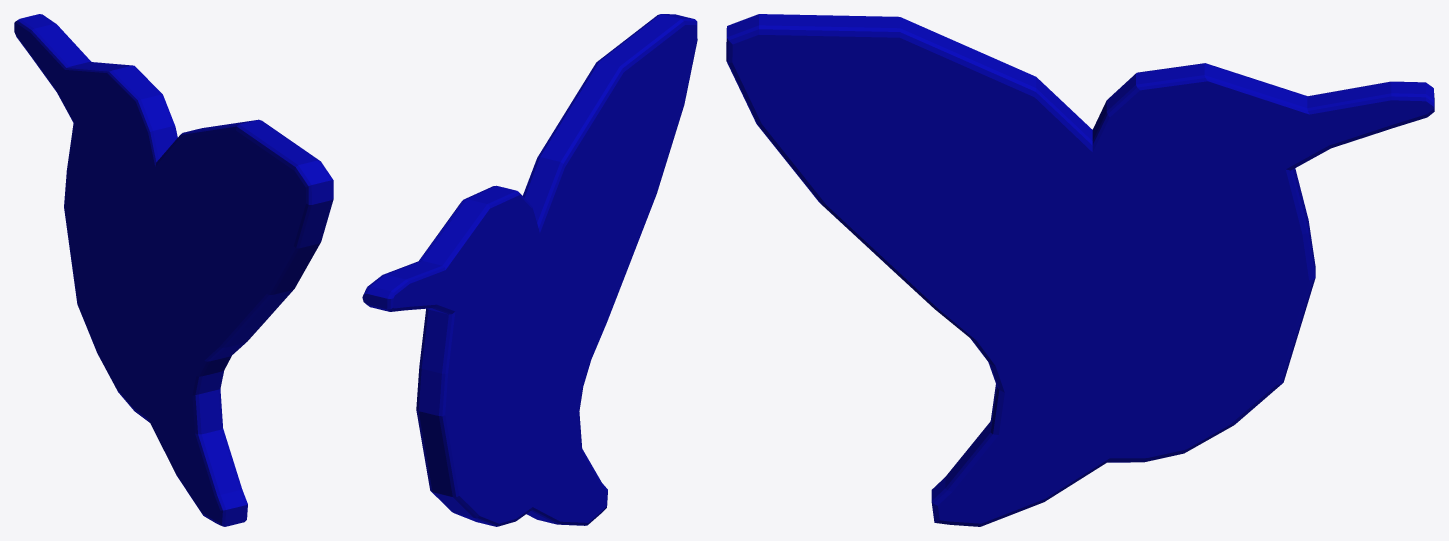
File: pioubleu.glb
3 views of the same model, side by side, from view 1: azimuth 30°, elevation 25°; view 2: azimuth 150°, elevation 25°; view 3: azimuth 270°, elevation 25° (orthographic). The views are drawn at different scales.
Visible parts, largest first — view 1: Plane; view 2: Plane; view 3: Plane.
Boxes of the visible parts, x1,y1,x2,y2 form: Plane: (14,14,333,526); Plane: (362,14,697,526); Plane: (726,14,1434,526).
Size of the model in its own units: 0.1711 by 2.49 by 3.18.
